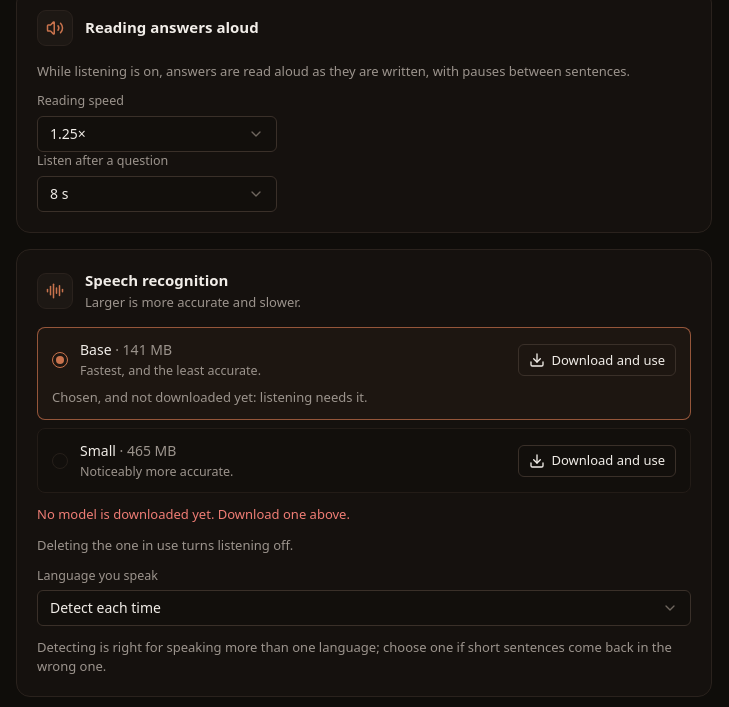
Voice › will not let a button that is already working be pressed again, and leaves the rest usable
What coordinates should you click on to do the following:
click the button with aria-label "download base"
I would click on:
 (597, 360)
Its box is [518,344,676,376].
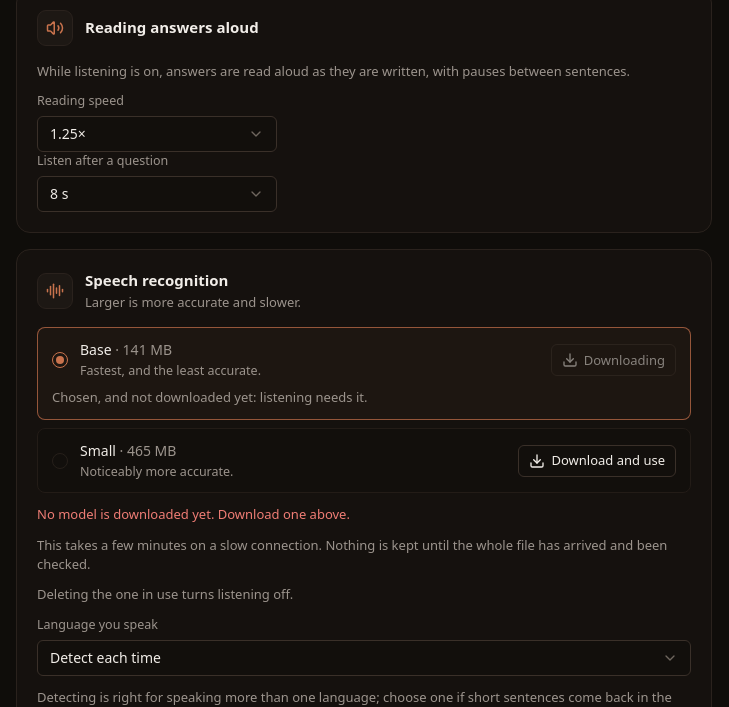
Check: the text "Downloading" is shown, box [551,344,676,376]
Check: the button with aria-label "download base" is disabled, box [551,344,676,376]
